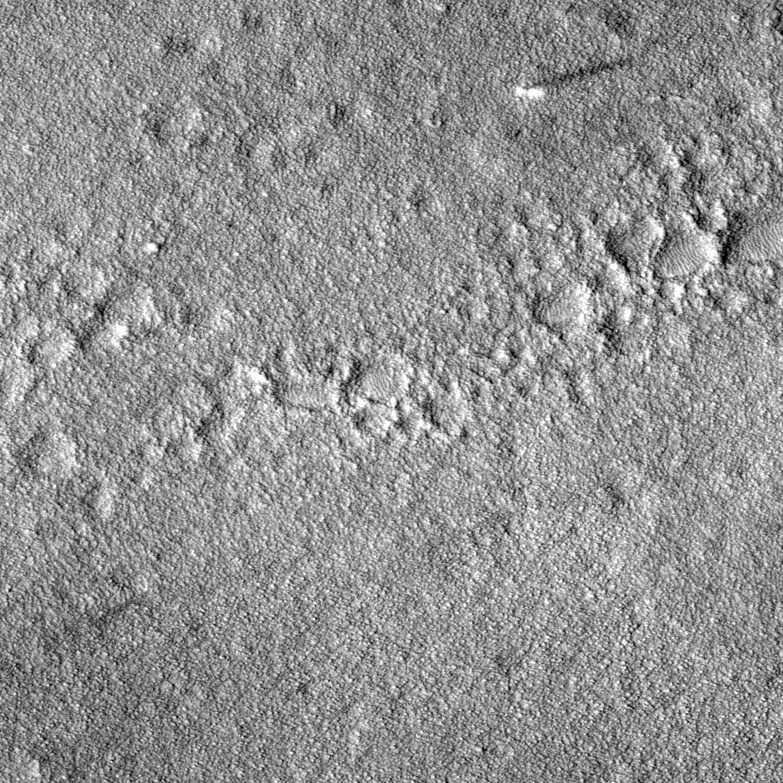dust_devil: (510, 52, 638, 101)
